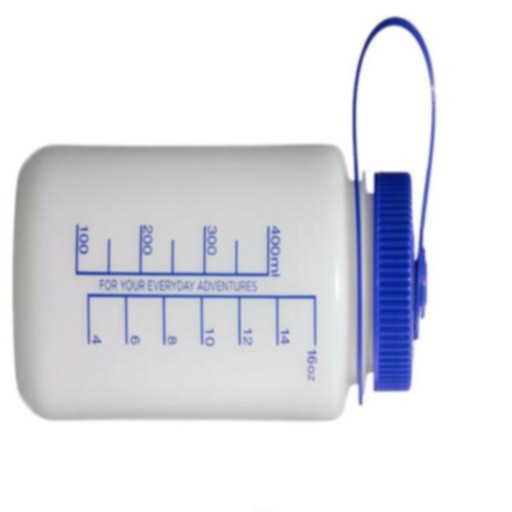bottle: (9, 14, 440, 426)
